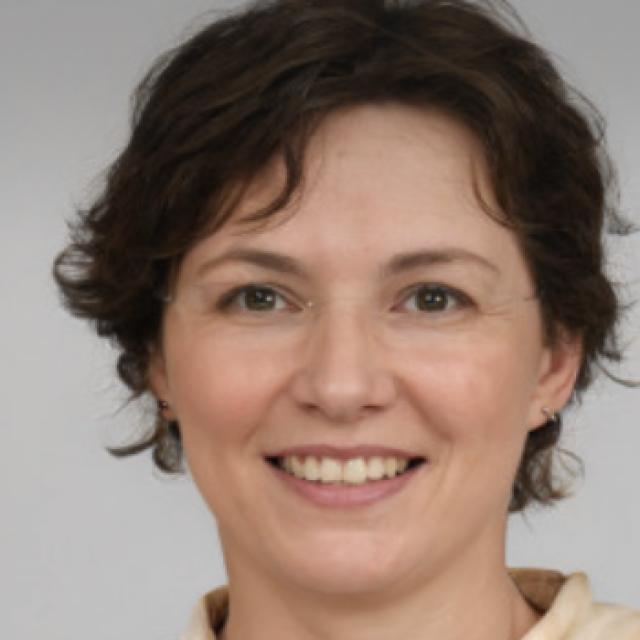happy: (80, 0, 606, 609)
